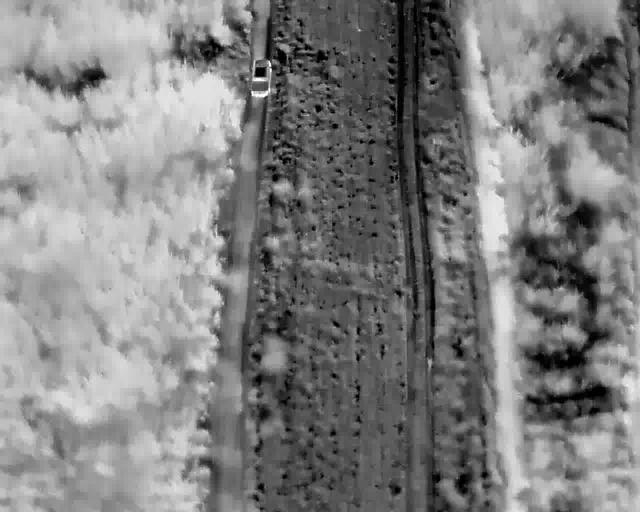car: (258, 0, 281, 36)
